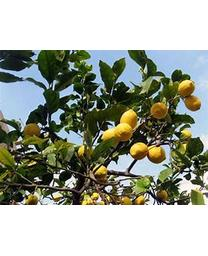lemon: (147, 145, 166, 164), (120, 110, 137, 130), (115, 123, 133, 141), (131, 142, 148, 160), (179, 80, 195, 97), (185, 95, 202, 111), (151, 104, 168, 118), (94, 166, 107, 179)
